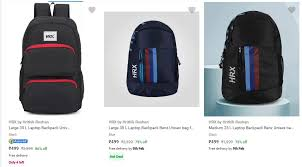backpack: (18, 2, 84, 114), (218, 10, 284, 103), (126, 20, 180, 96)
